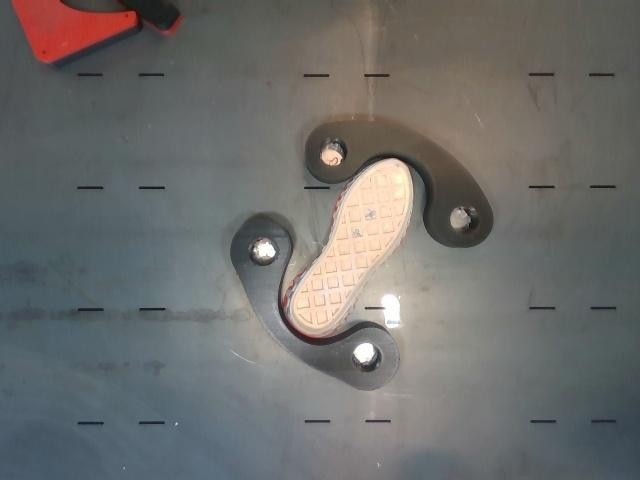shoes: (290, 159, 411, 333)
